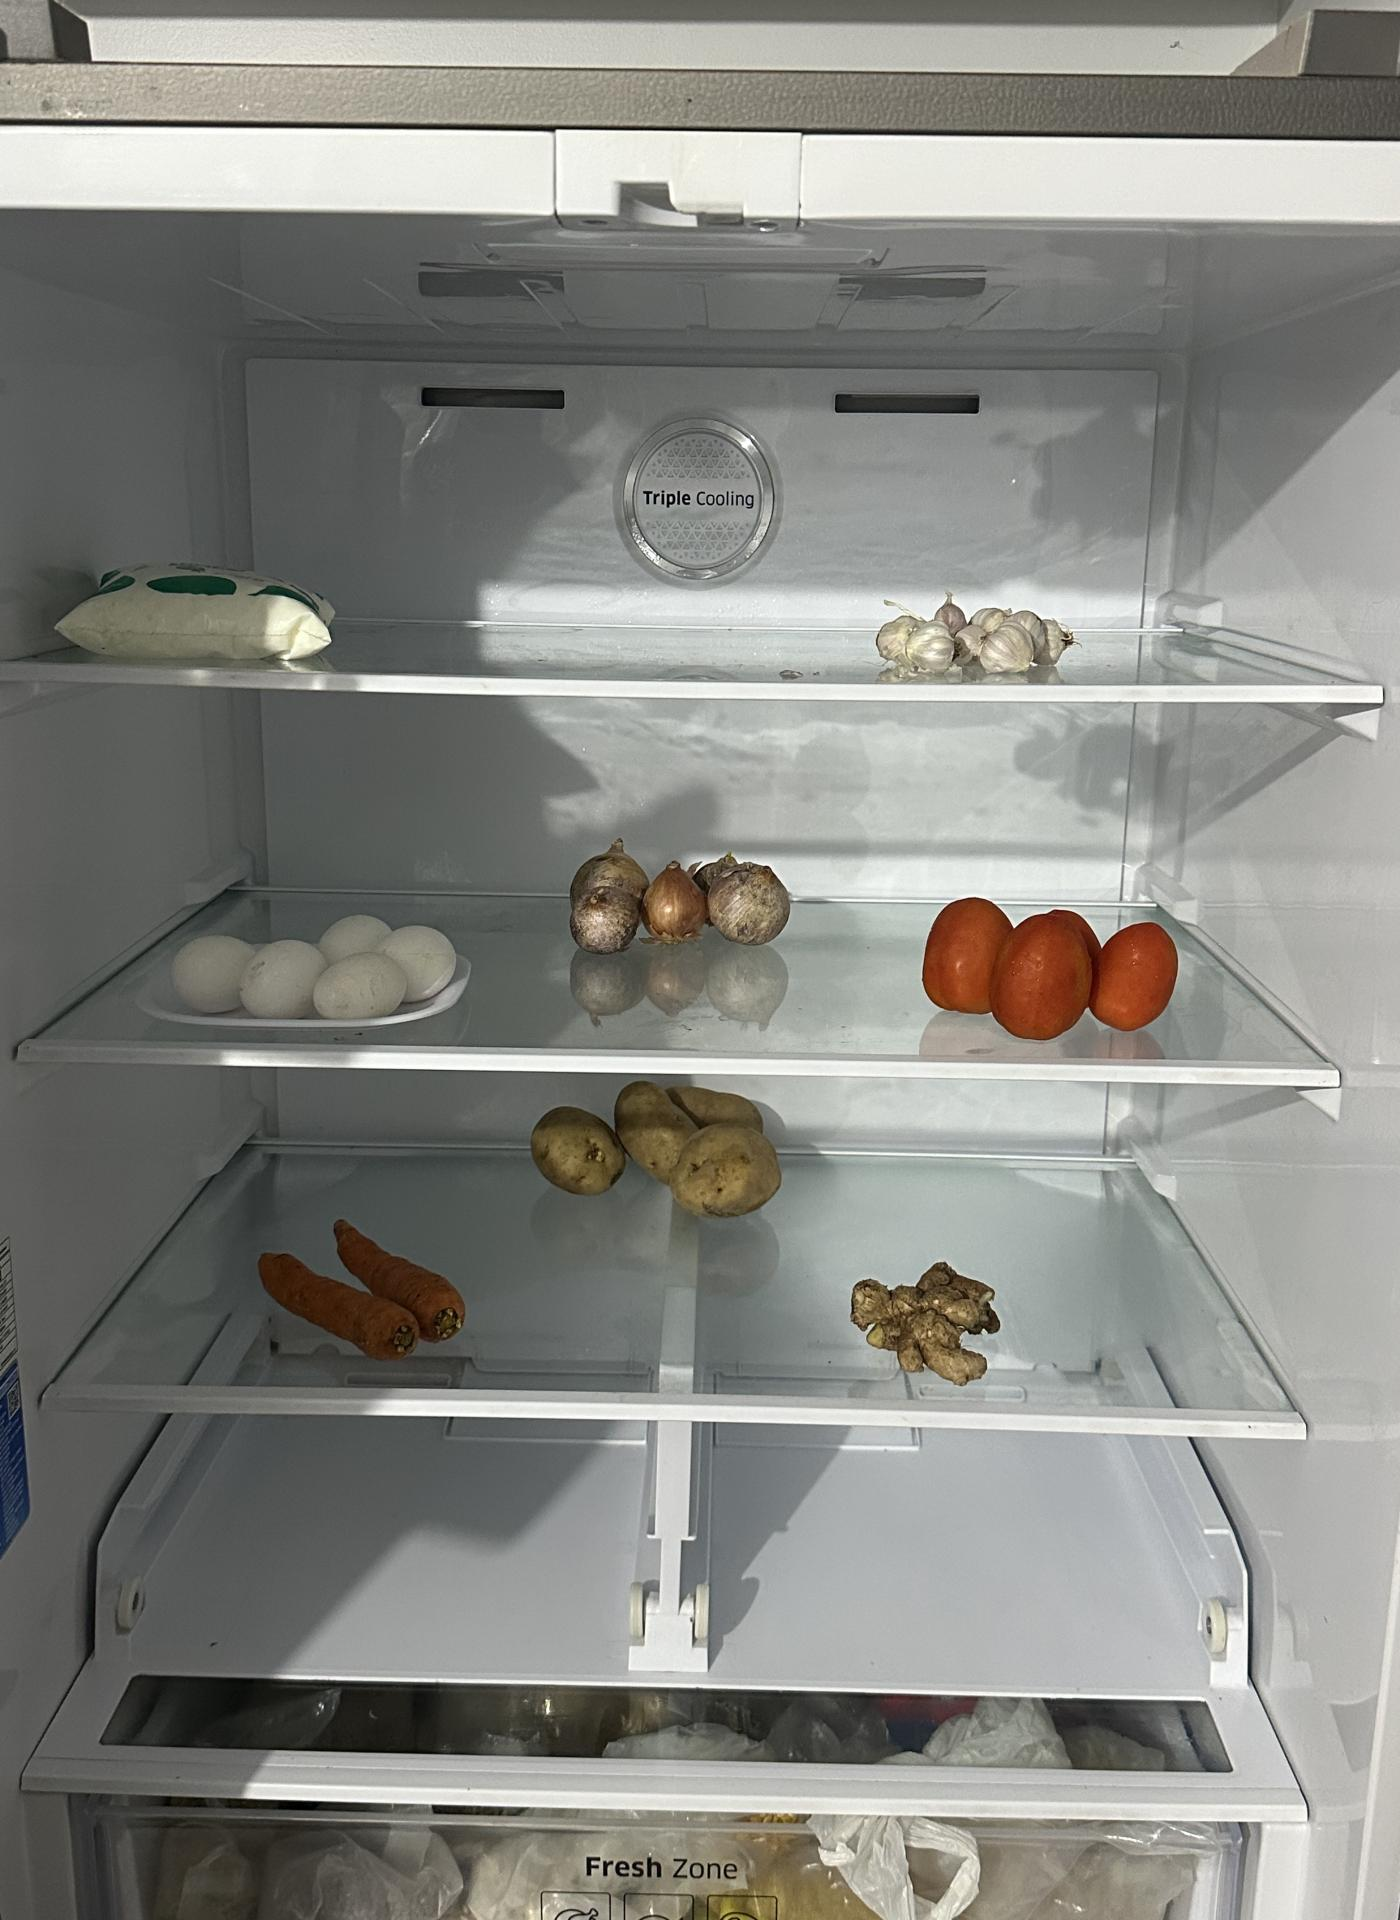carrots: (258, 1218, 467, 1360)
egg: (163, 920, 453, 1018)
garlic: (874, 593, 1081, 677)
ginger: (850, 1261, 999, 1389)
milk: (55, 566, 340, 666)
onion: (559, 838, 792, 964)
potato: (529, 1073, 783, 1207)
tomato: (923, 902, 1185, 1046)
